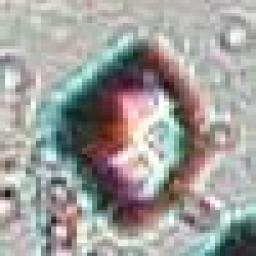crystals: (41, 33, 200, 217)
